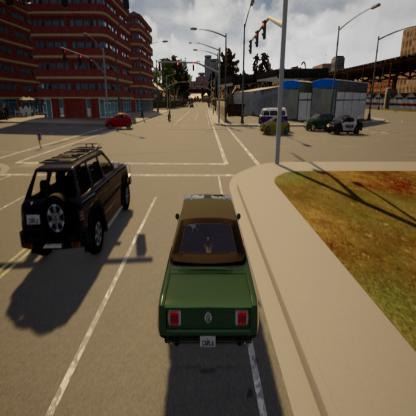Cars: (160, 193, 258, 347), (21, 148, 131, 253), (328, 114, 363, 136), (259, 106, 289, 127), (305, 112, 336, 131), (259, 117, 290, 134), (106, 112, 132, 130), (166, 109, 172, 122), (191, 102, 194, 108)
Pedestrian: (36, 127, 43, 150), (2, 101, 7, 120)
